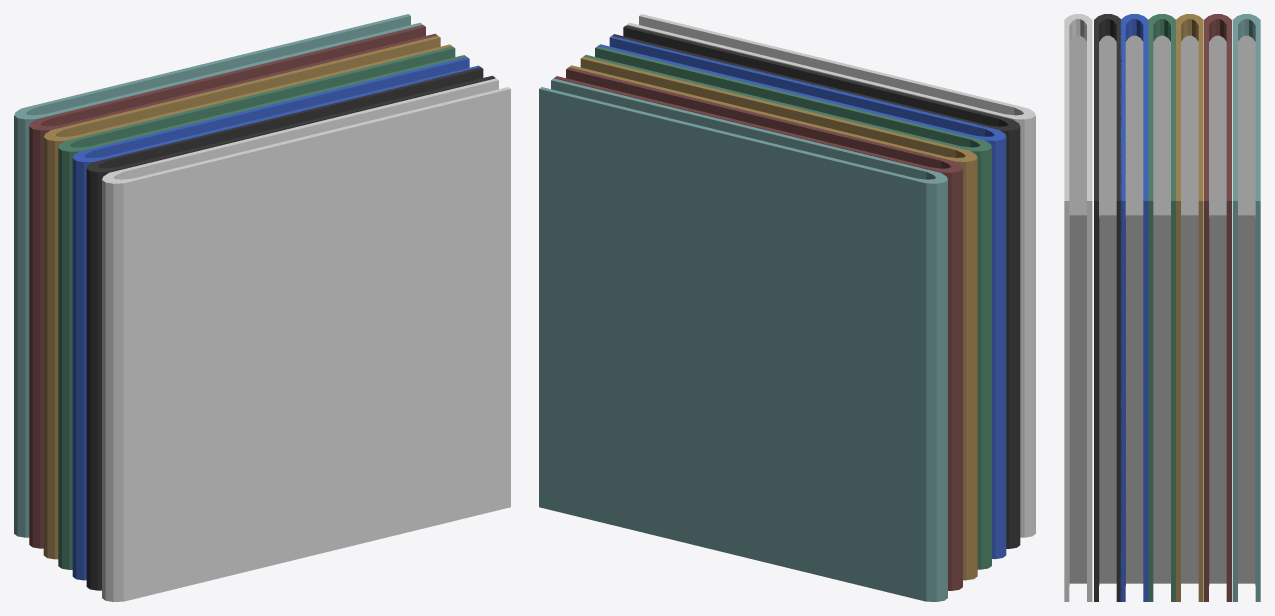
Rendered from burnbook.fbx.
The picture shows the model from 3 angles, left to right: view 1: azimuth 30°, elevation 25°; view 2: azimuth 150°, elevation 25°; view 3: azimuth 270°, elevation 25°; orthographic projection. The views are drawn at different scales.
Visible parts, largest first — view 1: polySurface8, polySurface4, polySurface7, polySurface3, polySurface2, polySurface5, polySurface6; view 2: polySurface4, polySurface8, polySurface2, polySurface3, polySurface6, polySurface5, polySurface7; view 3: polySurface4, polySurface8, polySurface6, polySurface2, polySurface5, polySurface3, polySurface7.
Part boxes in pixels (box(x1,y1,x2,y2)): polySurface8: box(102, 78, 510, 601); polySurface4: box(14, 14, 422, 537); polySurface7: box(86, 67, 495, 590); polySurface3: box(43, 36, 451, 559); polySurface2: box(29, 25, 437, 548); polySurface5: box(58, 46, 466, 569); polySurface6: box(72, 57, 480, 580); polySurface4: box(539, 78, 947, 601); polySurface8: box(627, 14, 1035, 537); polySurface2: box(554, 67, 962, 590); polySurface3: box(569, 56, 977, 580); polySurface6: box(598, 36, 1006, 559); polySurface5: box(584, 46, 991, 569); polySurface7: box(612, 25, 1020, 548); polySurface4: box(1232, 14, 1260, 601); polySurface8: box(1064, 14, 1092, 601); polySurface6: box(1120, 14, 1148, 601); polySurface2: box(1204, 14, 1231, 601); polySurface5: box(1148, 14, 1175, 601); polySurface3: box(1176, 14, 1203, 601); polySurface7: box(1094, 14, 1121, 601).
Bounding box in the file's own units: 8.29 × 8.29 × 3.68.
